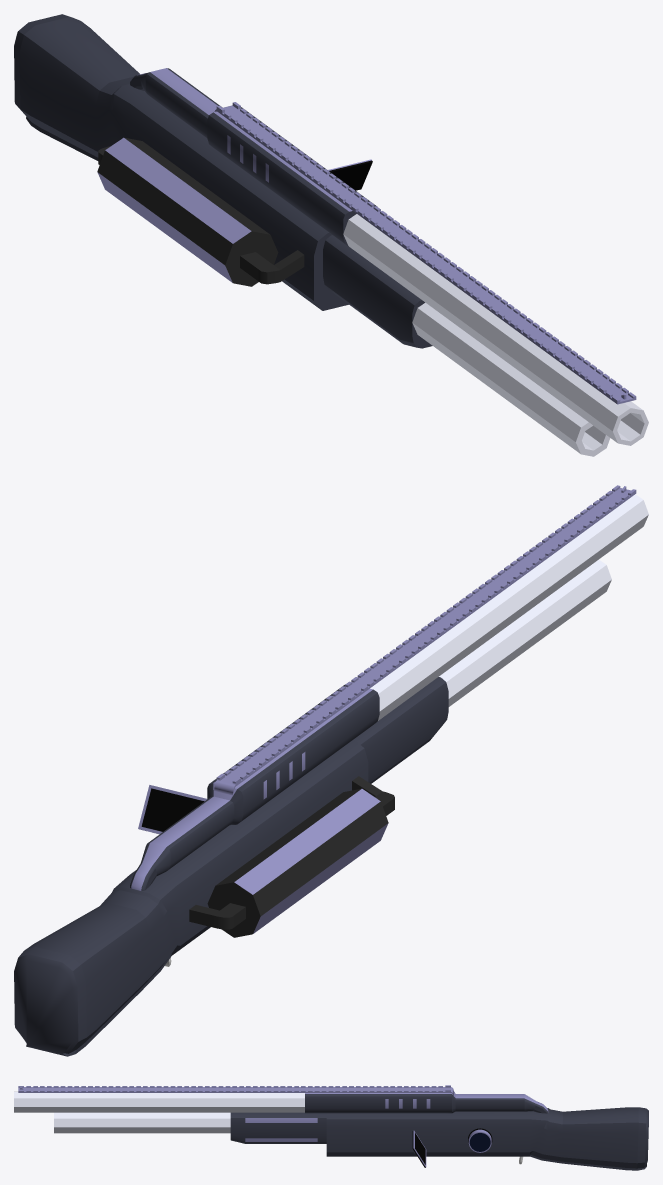
The model's file is ShotgunProto.fbx.
3 views of the same model, one above another, from view 1: azimuth 30°, elevation 25°; view 2: azimuth 150°, elevation 25°; view 3: azimuth 270°, elevation 25° (orthographic). The views are drawn at different scales.
Parts seen in each view (by area): view 1: Handle, Barrel1, Cylinder.001, IronSights, Cube.001, Barrel2, Cube, Cube.006, Cube.005; view 2: Handle, Cylinder.001, Barrel1, Cube.001, IronSights, Barrel2, Cube, Cube.005, Cube.004; view 3: Handle, Barrel1, Cube.001, Barrel2, Cube, IronSights, Button, Cube.005.
Part boxes in pixels (bbox=[...]): Handle: bbox=[14, 14, 348, 310]; Barrel1: bbox=[343, 214, 648, 445]; Cylinder.001: bbox=[97, 137, 278, 286]; IronSights: bbox=[214, 102, 636, 404]; Cube.001: bbox=[130, 68, 377, 247]; Barrel2: bbox=[412, 302, 610, 456]; Cube: bbox=[323, 235, 432, 348]; Cube.006: bbox=[240, 250, 304, 284]; Cube.005: bbox=[328, 159, 372, 190]; Handle: bbox=[14, 740, 368, 1056]; Cylinder.001: bbox=[207, 788, 388, 937]; Barrel1: bbox=[370, 494, 648, 720]; Cube.001: bbox=[130, 685, 379, 890]; IronSights: bbox=[214, 485, 636, 795]; Barrel2: bbox=[439, 559, 611, 706]; Cube: bbox=[353, 677, 448, 783]; Cube.005: bbox=[138, 785, 207, 834]; Cube.004: bbox=[189, 903, 245, 929]; Handle: bbox=[326, 1107, 648, 1170]; Barrel1: bbox=[14, 1091, 304, 1112]; Cube.001: bbox=[305, 1091, 548, 1113]; Barrel2: bbox=[54, 1112, 230, 1133]; Cube: bbox=[230, 1112, 326, 1143]; IronSights: bbox=[18, 1085, 453, 1095]; Button: bbox=[468, 1128, 492, 1152]; Cube.005: bbox=[412, 1130, 426, 1167].
Size of the model in its own units: 106 by 562 by 75.7.
